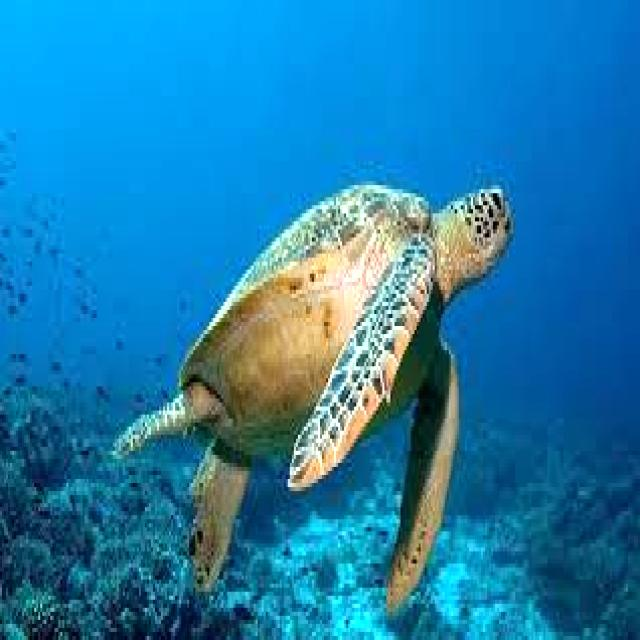Sea turtle: (112, 181, 518, 600)
